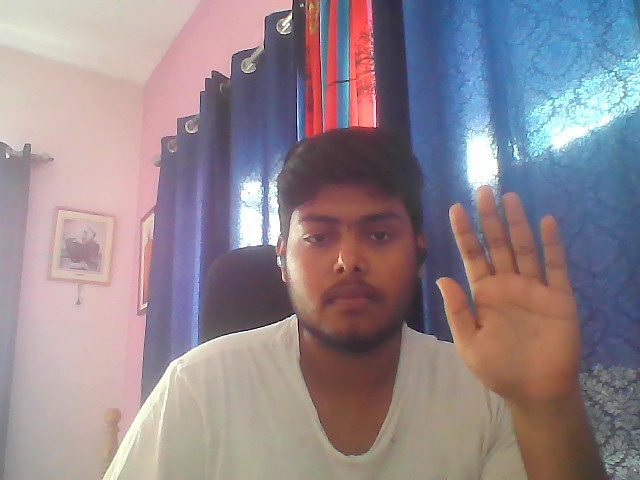Hello: (432, 183, 597, 401)
